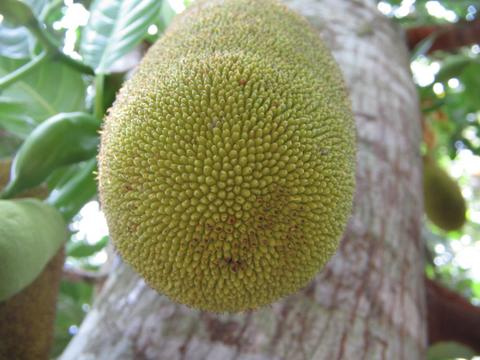jackfruit: (94, 0, 357, 315)
